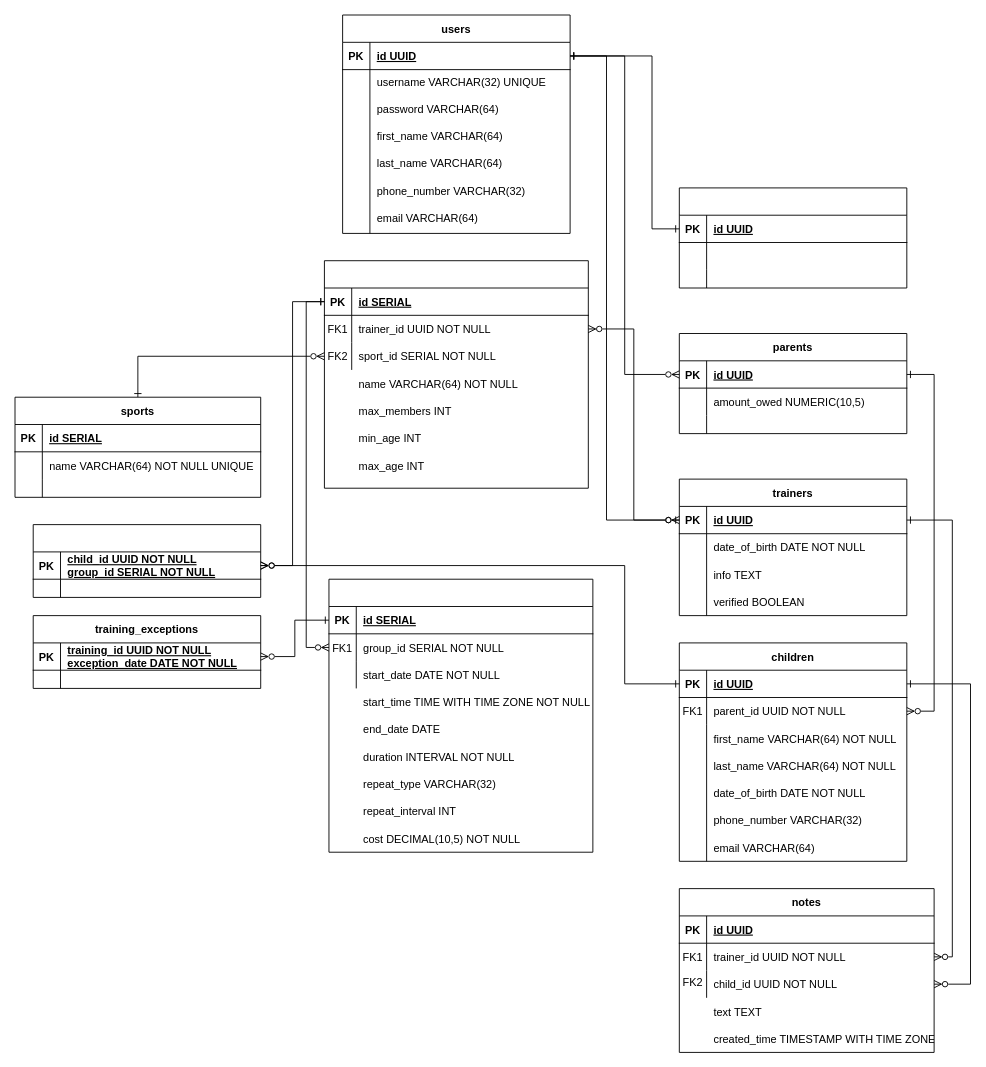
Image size: 986x1067. Some labels were removed from this diagram. Each missing label, with the box of its shape:
administrators: (678, 187, 907, 288)
child_group: (32, 524, 261, 597)
sport_groups: (324, 260, 588, 488)
sport_trainings: (328, 578, 593, 852)
